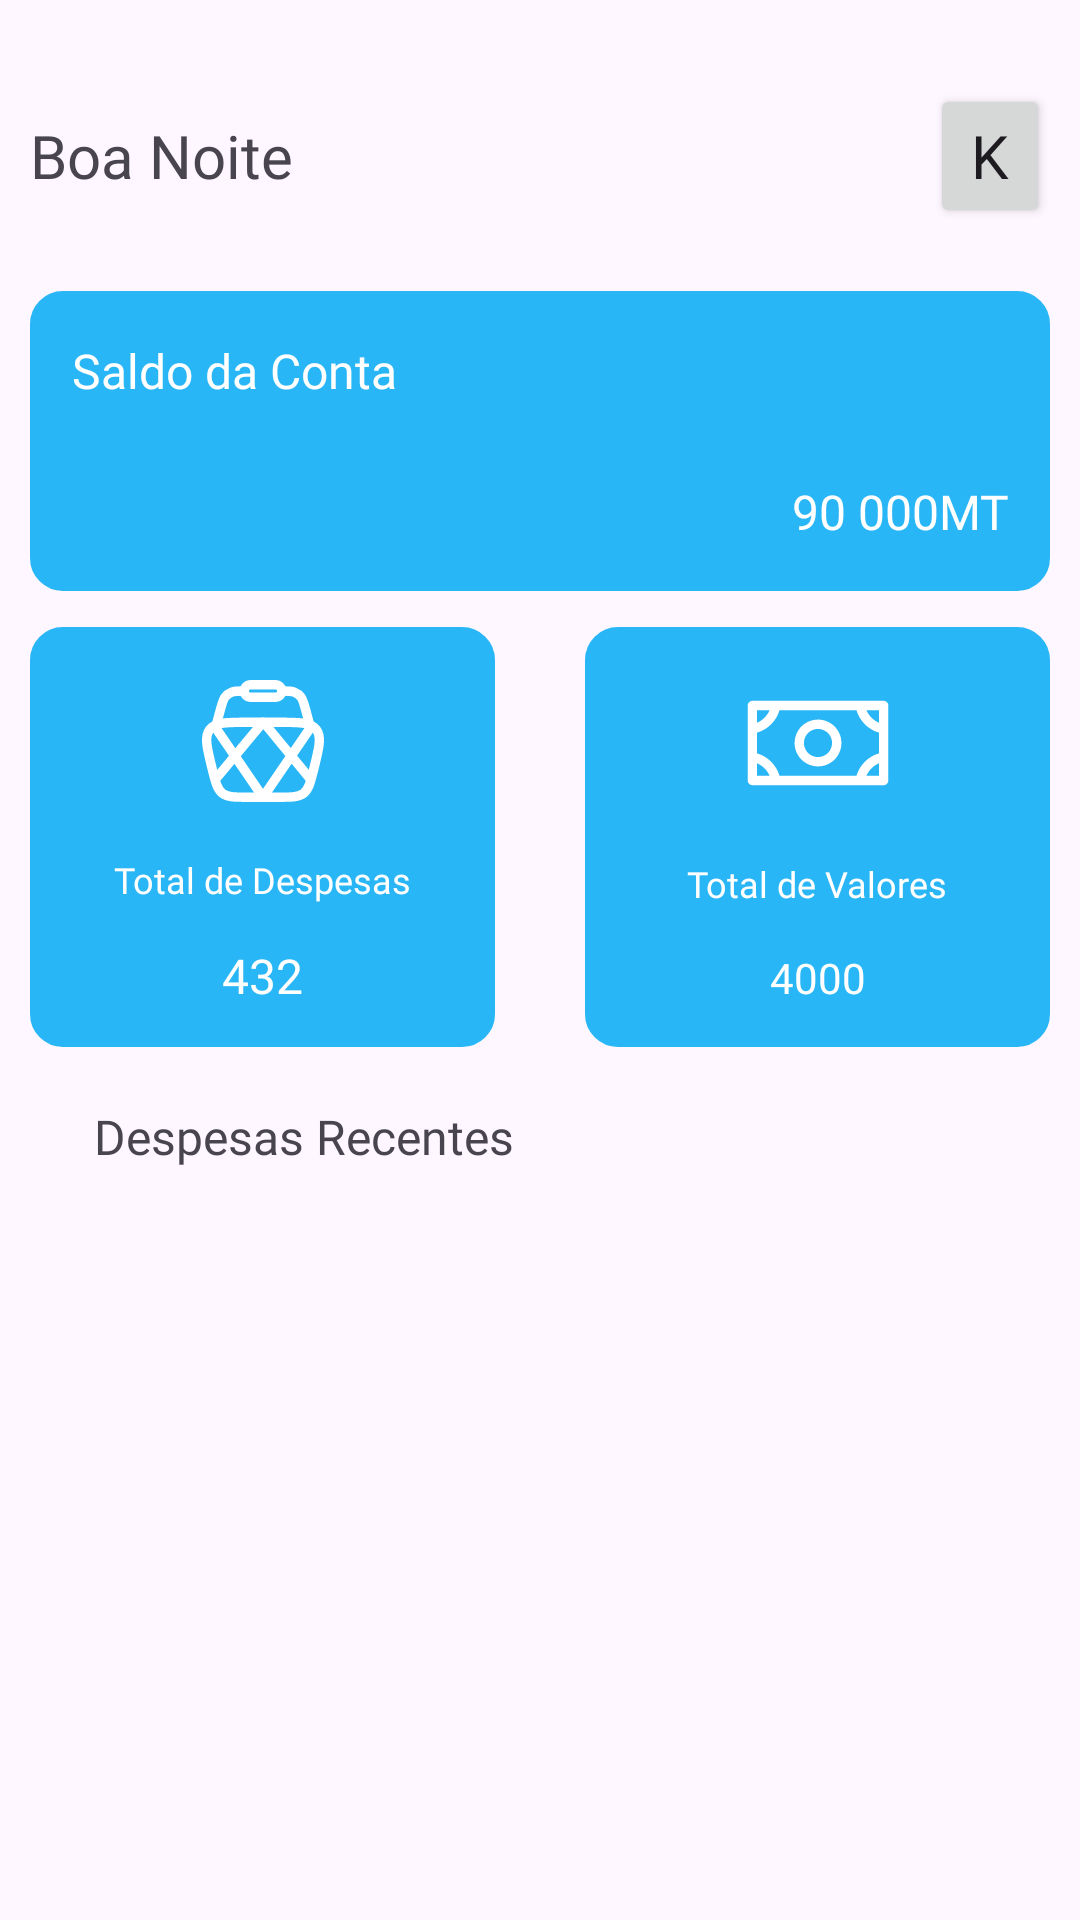

Point at icon controls on the screen. Image size 1080w x 1920h, points as (x=x, y=y).
money: (x=818, y=743)
solar cart linear: (x=263, y=741)
